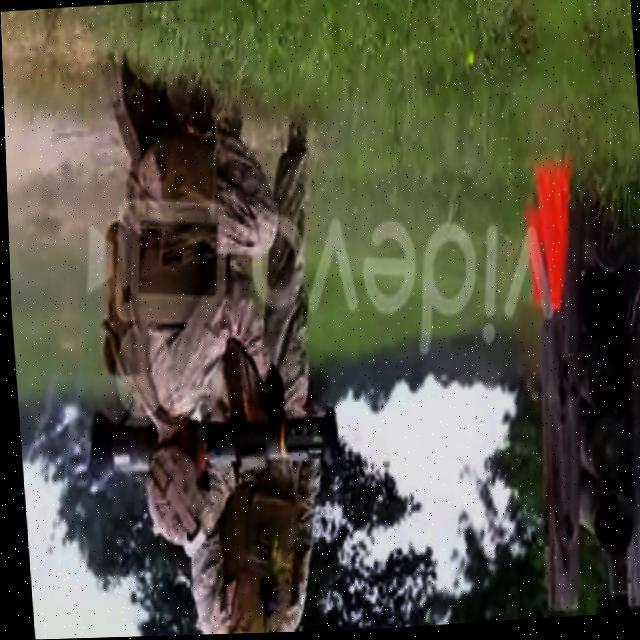rocket: (78, 375, 341, 514)
